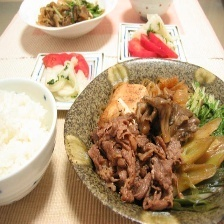rice: (1, 83, 52, 183)
